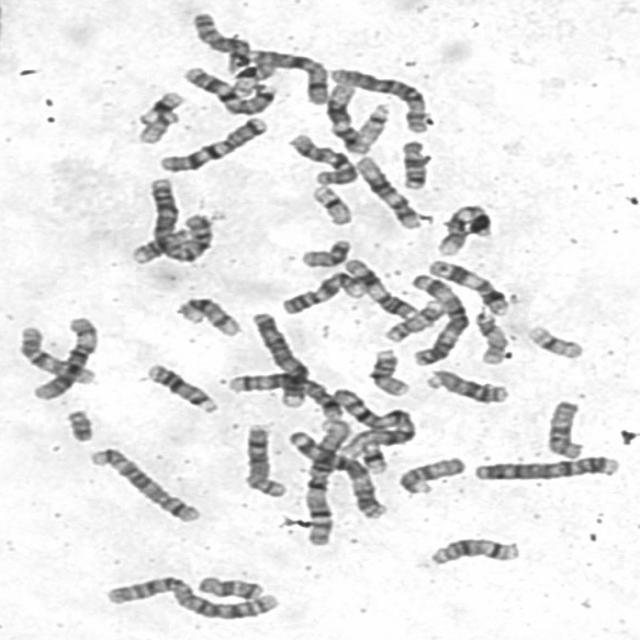A1: (296, 415, 354, 549), (326, 384, 418, 461)
A2: (99, 569, 282, 622), (143, 173, 217, 264)
A3: (281, 424, 389, 520), (404, 269, 472, 368)
B4: (246, 307, 311, 410), (467, 451, 622, 483)
B5: (82, 442, 203, 524), (220, 368, 344, 420)
C10: (13, 322, 98, 386), (282, 129, 359, 187)
C11: (422, 255, 512, 317), (338, 254, 421, 320)
C12: (350, 151, 424, 231), (319, 78, 371, 155)
C6: (324, 64, 431, 134), (25, 311, 101, 402)
C7: (153, 112, 270, 173), (178, 62, 278, 116)
C8: (186, 7, 253, 74), (237, 420, 288, 499)
C9: (276, 267, 366, 316), (432, 199, 495, 257)
D13: (140, 358, 220, 414), (420, 365, 510, 405)
D14: (422, 532, 522, 568), (170, 293, 243, 338)
D15: (392, 452, 468, 496), (540, 395, 586, 461)
E16: (120, 225, 198, 270), (364, 344, 413, 398)
E17: (379, 296, 447, 344), (469, 307, 509, 366)
E18: (191, 571, 267, 602), (396, 136, 430, 191)
F19: (520, 320, 586, 361), (305, 180, 355, 227)
F20: (224, 57, 278, 98), (294, 234, 352, 268)
G21: (132, 87, 186, 125), (354, 439, 390, 475)
G22: (352, 99, 394, 144), (132, 107, 181, 145)
X: (230, 46, 332, 106)
Y: (60, 405, 96, 443)
